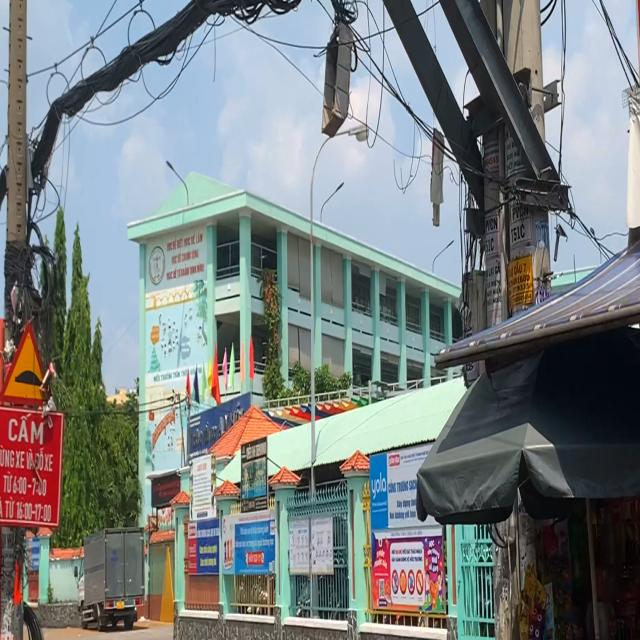Nguy hiem: (0, 322, 58, 403)
